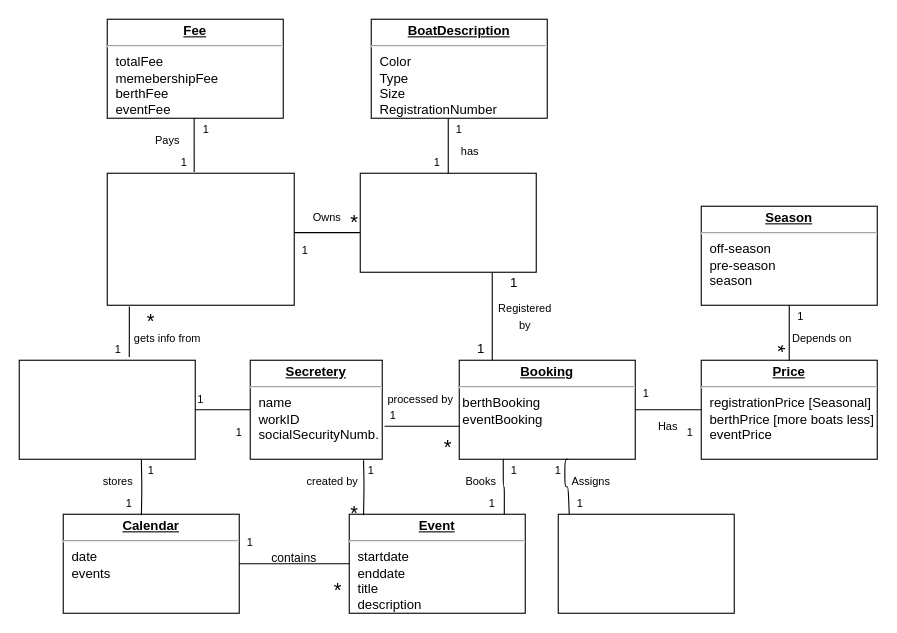
This 897x633 diagram has some shape labels left out. Here are the shapes that lost their labels. From the top down, the centre of each, then its label:
At pixel 200 238: "Member name memberID boats events payments socialSecurityNumber".
At pixel 447 222: "Boat owner berth/location".
At pixel 106 409: "Yachtclub memberList berthList".
At pixel 645 563: "Berths location 1-200 member previousMembers".
